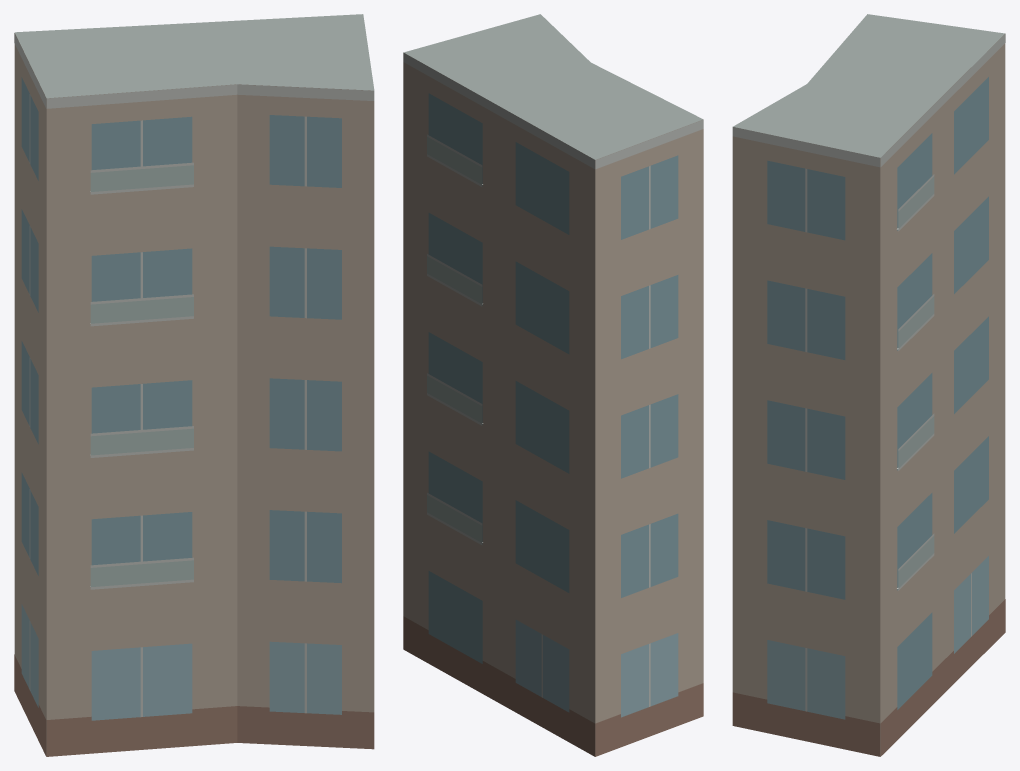
The model's file is survey-upis-32622125.glb.
3 views of the same model, side by side, from view 1: azimuth 30°, elevation 25°; view 2: azimuth 150°, elevation 25°; view 3: azimuth 270°, elevation 25° (orthographic). The views are drawn at different scales.
Visible parts, largest first — view 1: survey-upis-32622125.tmp; view 2: survey-upis-32622125.tmp; view 3: survey-upis-32622125.tmp.
Boxes of the visible parts, bbox=[...] form: survey-upis-32622125.tmp: bbox=[14, 14, 374, 756]; survey-upis-32622125.tmp: bbox=[403, 14, 703, 756]; survey-upis-32622125.tmp: bbox=[732, 14, 1005, 756].
Bounding box in the file's own units: 7.86 × 15.25 × 6.3.
